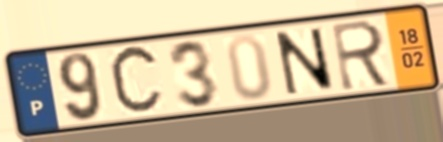0: (224, 32, 274, 103)
3: (166, 37, 221, 111)
9: (58, 49, 108, 124)
C: (106, 41, 166, 121)
N: (272, 26, 339, 98)
R: (329, 17, 395, 94)
